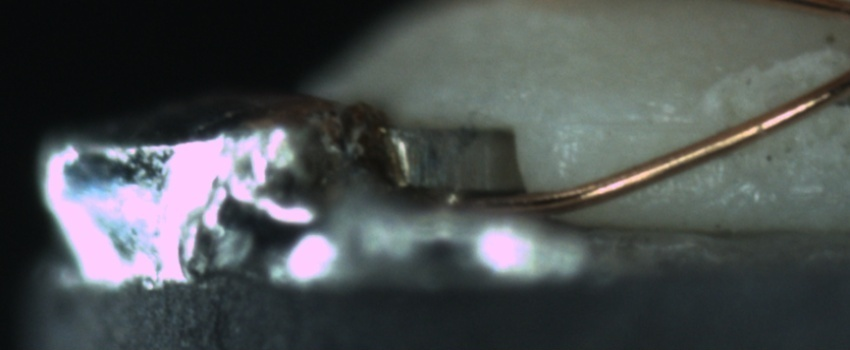DL: (557, 94, 715, 158)
